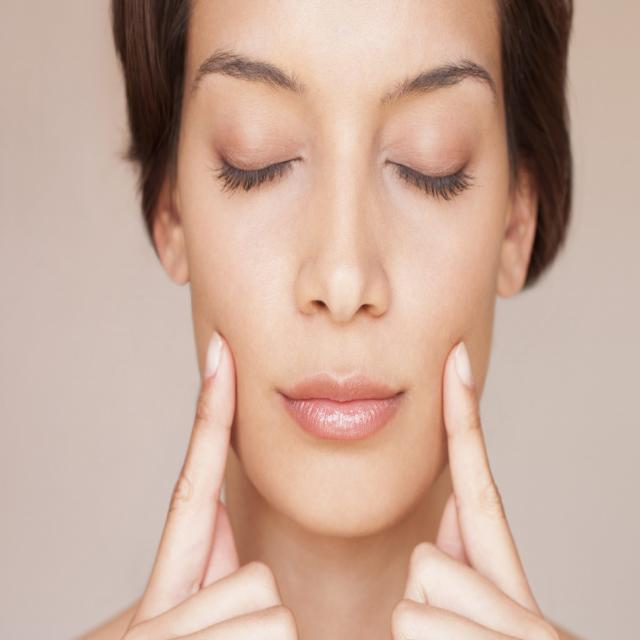earlobe: (154, 214, 190, 287), (494, 231, 527, 301)
eye: (386, 144, 481, 196), (217, 138, 298, 182)
nose: (294, 300, 392, 354)
wholeear: (495, 131, 540, 301), (141, 143, 191, 288)
